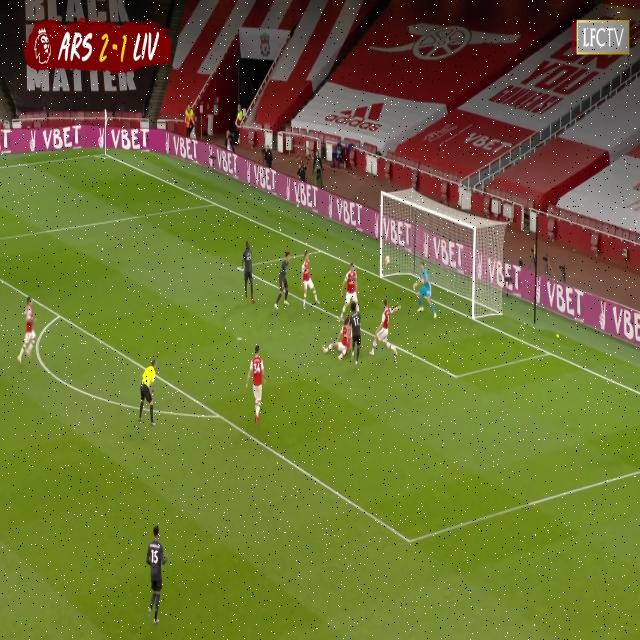Ball: (385, 253, 391, 269)
GoalKeeper: (414, 263, 437, 321)
TEAM 1: (370, 302, 399, 356), (249, 346, 267, 426), (18, 299, 39, 366), (338, 261, 361, 320), (321, 319, 352, 362), (301, 254, 321, 309)
TEAM 2: (145, 527, 167, 626), (276, 250, 294, 311), (349, 305, 364, 368), (241, 239, 255, 303)
